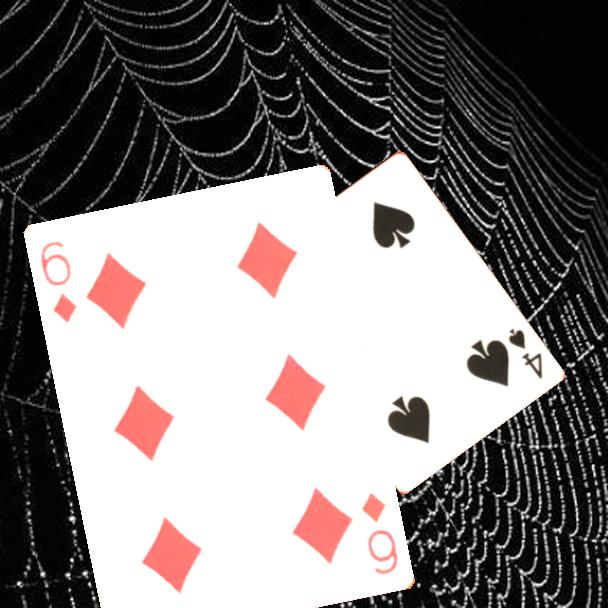d06: (358, 489, 402, 578), (37, 238, 80, 326)
s04: (504, 324, 545, 382)
